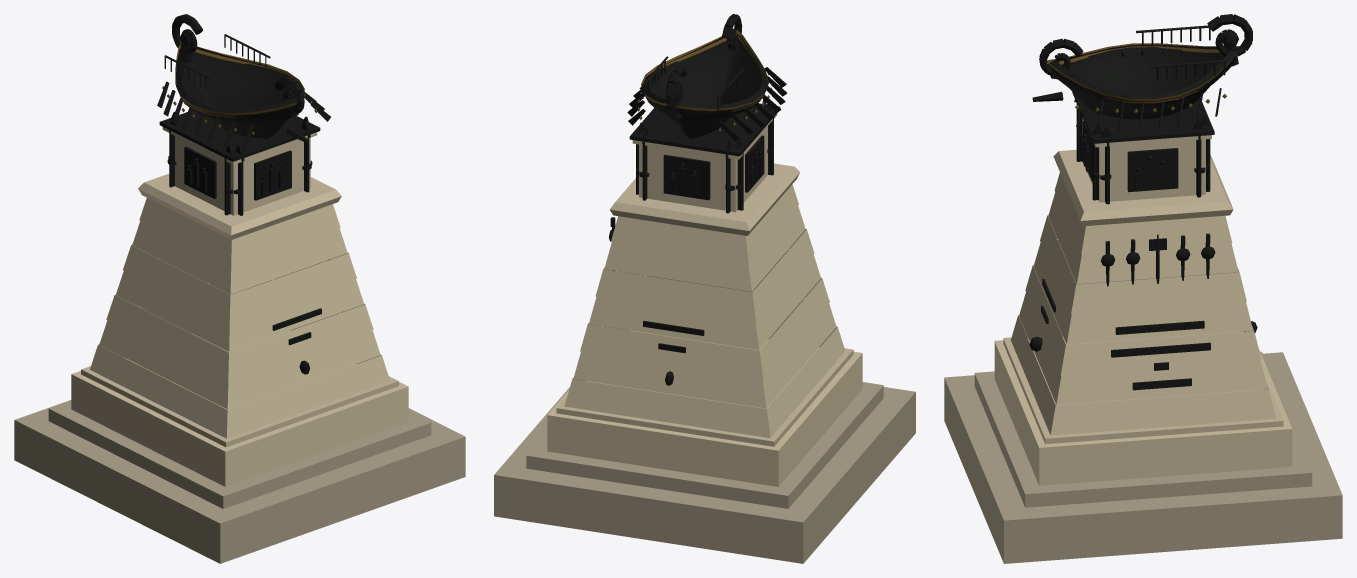
The model's file is kazarsky.glb.
3 views of the same model, side by side, from view 1: azimuth 30°, elevation 25°; view 2: azimuth 150°, elevation 25°; view 3: azimuth 270°, elevation 25° (orthographic). The views are drawn at different scales.
Visible parts, largest first — view 1: kazarsky_wall, kazarsky_stone, kazarsky_wall2, kazarsky_wall3_s, kazarsky_metal_s, kazarsky_trim; view 2: kazarsky_wall, kazarsky_stone, kazarsky_wall2, kazarsky_wall3_s, kazarsky_metal_s, kazarsky_trim; view 3: kazarsky_wall, kazarsky_stone, kazarsky_wall2, kazarsky_metal_s, kazarsky_wall3_s, kazarsky_trim.
Part boxes in pixels (box(x1,y1,x2,y2)): kazarsky_wall: box(71, 198, 408, 486); kazarsky_stone: box(14, 400, 465, 563); kazarsky_wall2: box(81, 127, 398, 447); kazarsky_wall3_s: box(157, 14, 330, 150); kazarsky_metal_s: box(159, 34, 329, 374); kazarsky_trim: box(162, 42, 317, 135); kazarsky_wall: box(547, 184, 862, 486); kazarsky_stone: box(494, 382, 915, 563); kazarsky_wall2: box(556, 113, 853, 446); kazarsky_wall3_s: box(627, 14, 786, 141); kazarsky_metal_s: box(609, 56, 780, 385); kazarsky_trim: box(637, 30, 772, 131); kazarsky_wall: box(994, 173, 1292, 485); kazarsky_stone: box(944, 351, 1342, 563); kazarsky_wall2: box(1003, 118, 1283, 444); kazarsky_metal_s: box(1029, 25, 1257, 390); kazarsky_wall3_s: box(1032, 14, 1252, 129); kazarsky_trim: box(1047, 43, 1239, 113).
Size of the model in its own units: 5.33 by 6.76 by 5.33.
